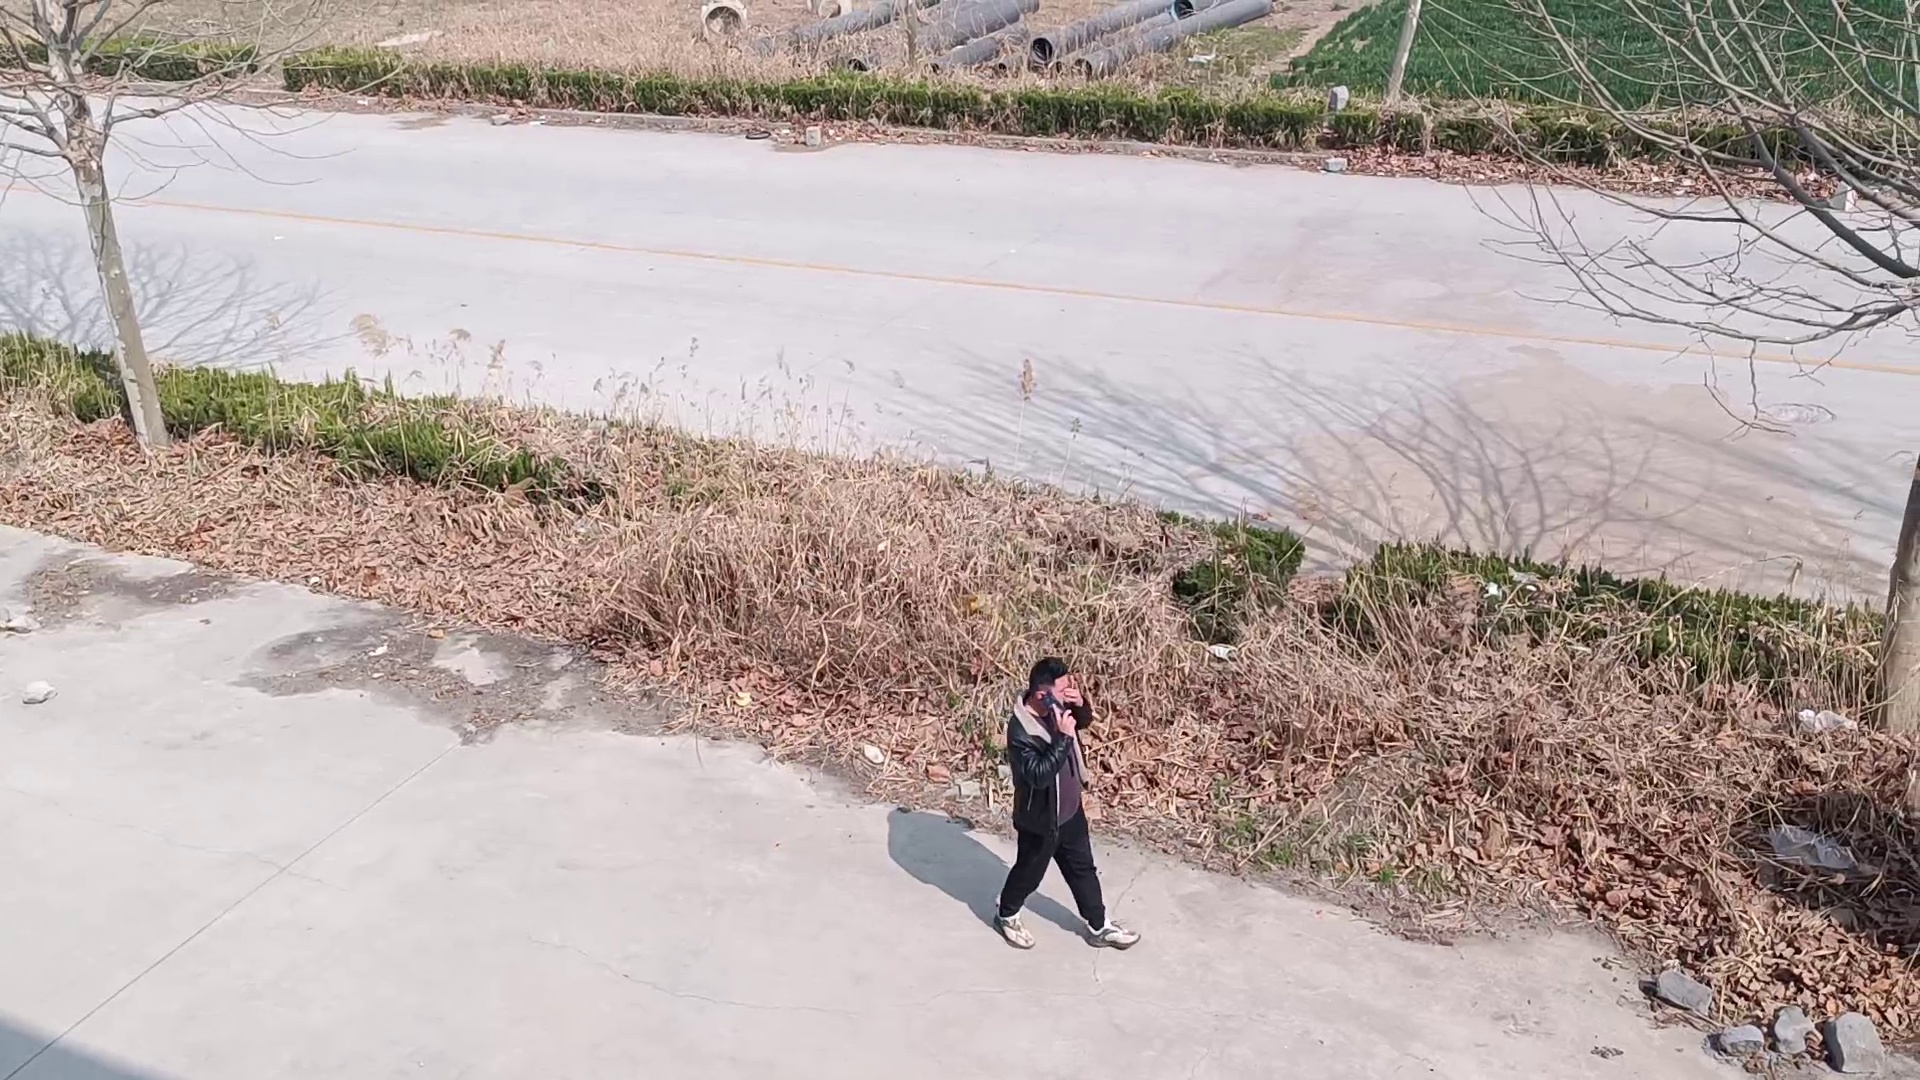phone: (1023, 655, 1079, 728)
